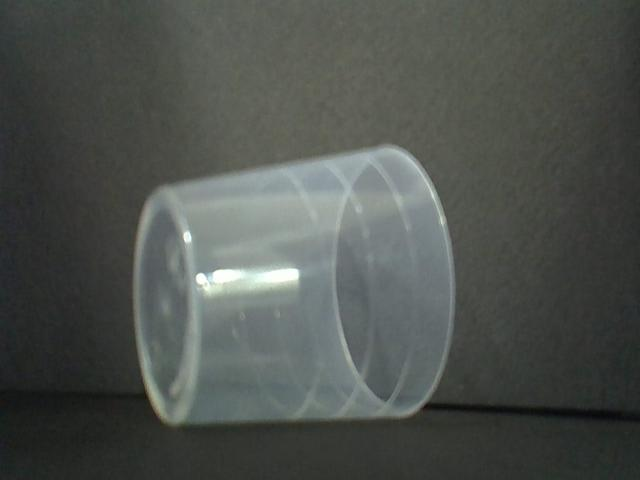cup: (129, 142, 465, 430)
